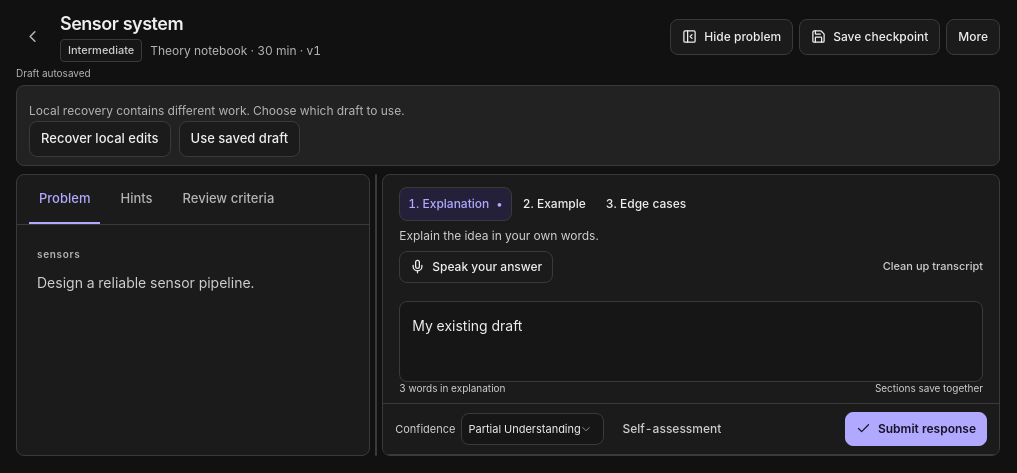
Test case: offers unsaved structured recovery without replacing the saved draft automatically
Expected: the text box named "Written response" holds "My existing draft", [399,301,983,382]
Click the button "Recover local edits": [100, 139] box [29,121,170,157]
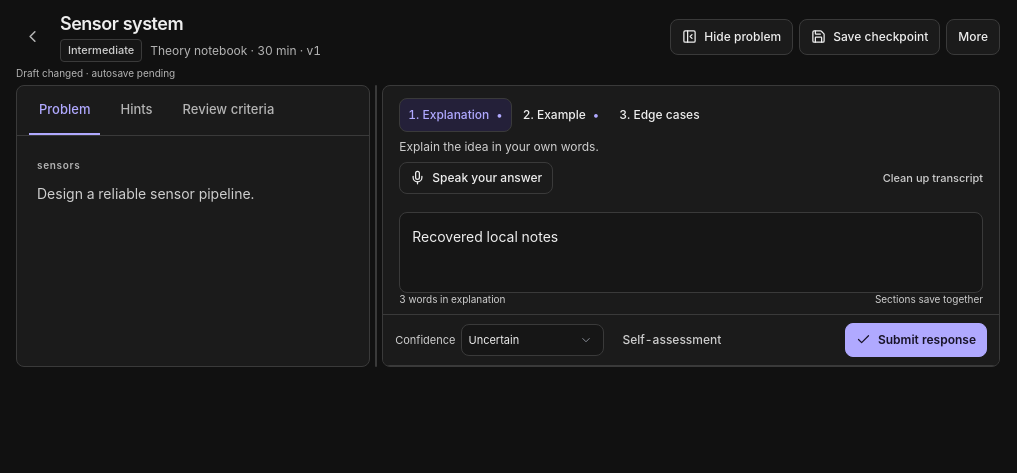
Expected: the text box named "Written response" holds "Recovered local notes", [399,212,983,294]
Click the button "2. Example •": [561, 115] box [514,98,608,132]
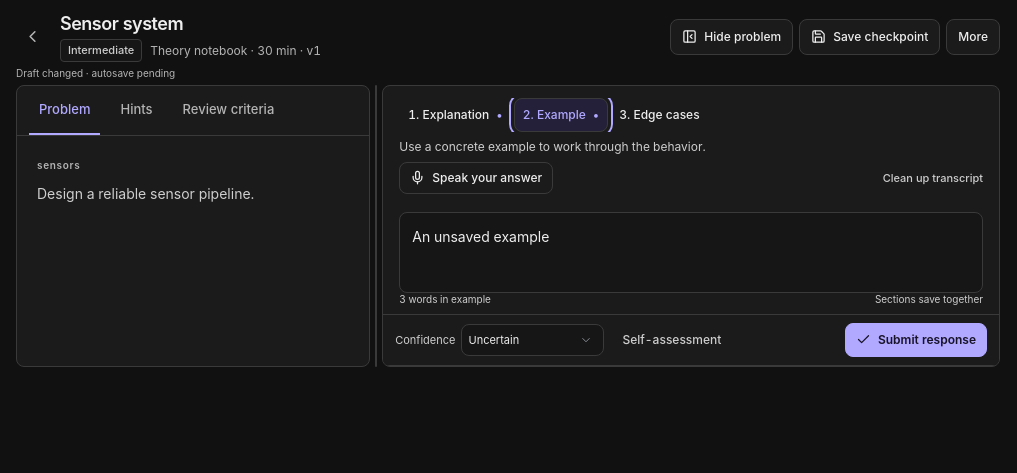
Expected: the dropdown labelled "Confidence" shows "Uncertain", [462,324,604,356]
Expected: the text box named "Written response" holds "An unsaved example", [399,212,983,294]
